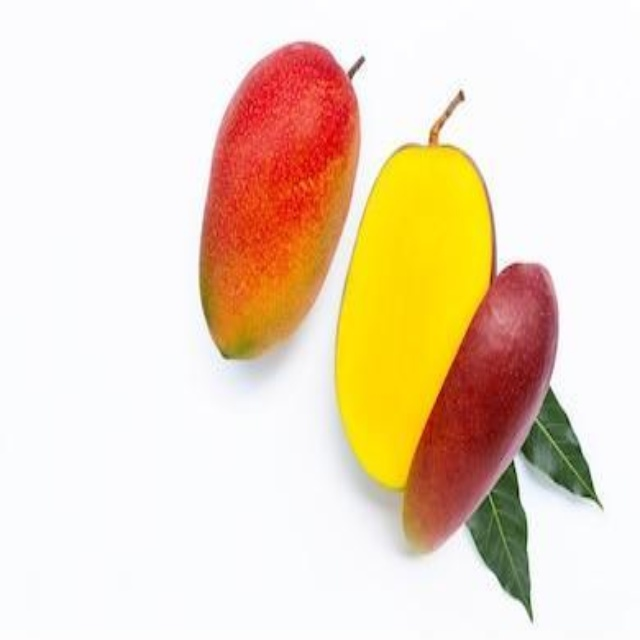mango: (352, 106, 558, 562), (195, 41, 372, 376)
